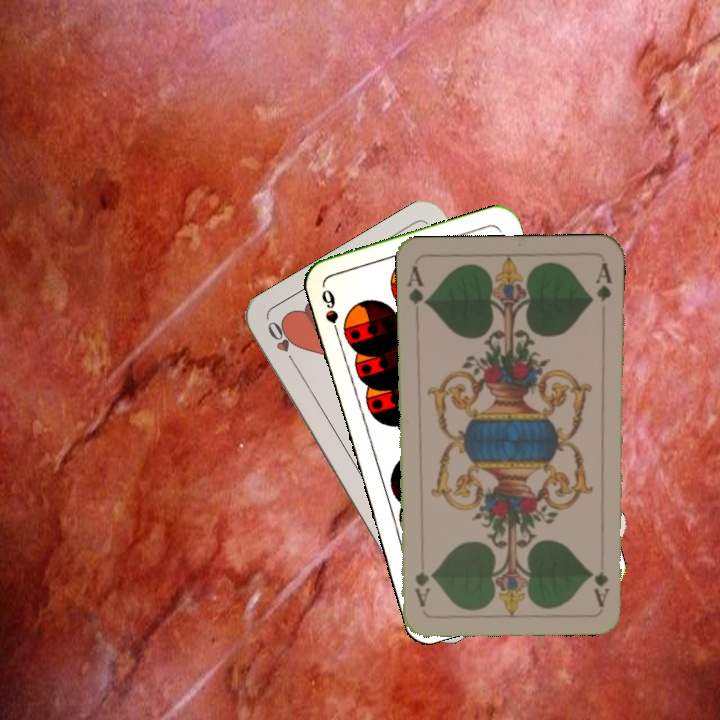GA: (403, 262, 430, 310), (593, 567, 612, 608)
HO: (263, 317, 301, 370)
S9: (317, 285, 343, 342)
